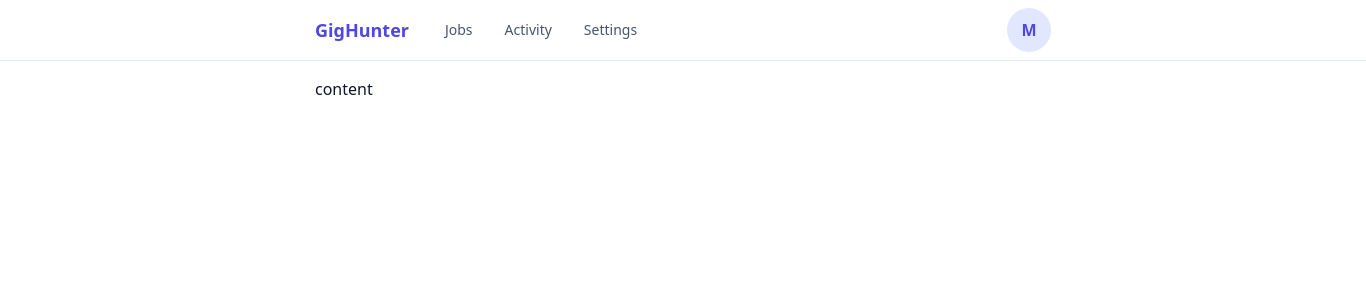
Test: AppShell › account menu offers Account, and links to Terms and Privacy
Click the button named "account menu" at (1029, 30), box [1007,8,1051,52]
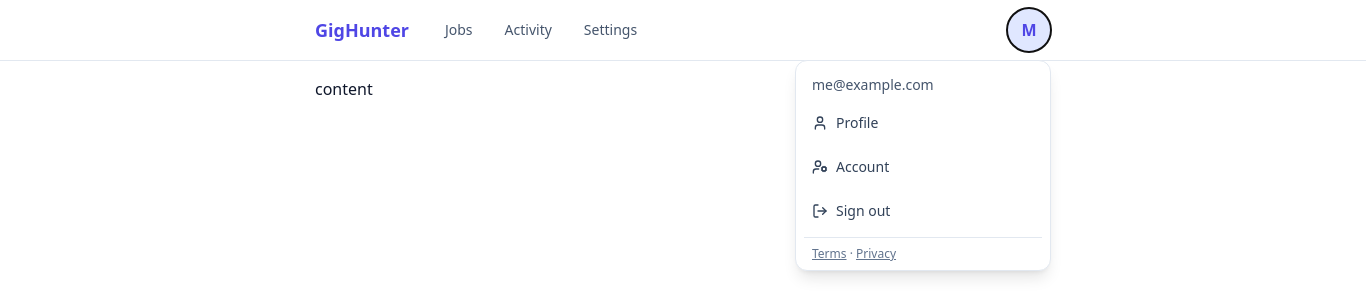
Expected: the menu items read "Profile", "Account", "Sign out", in this order, [812,113,878,132]; [812,157,889,176]; [804,189,1042,233]
